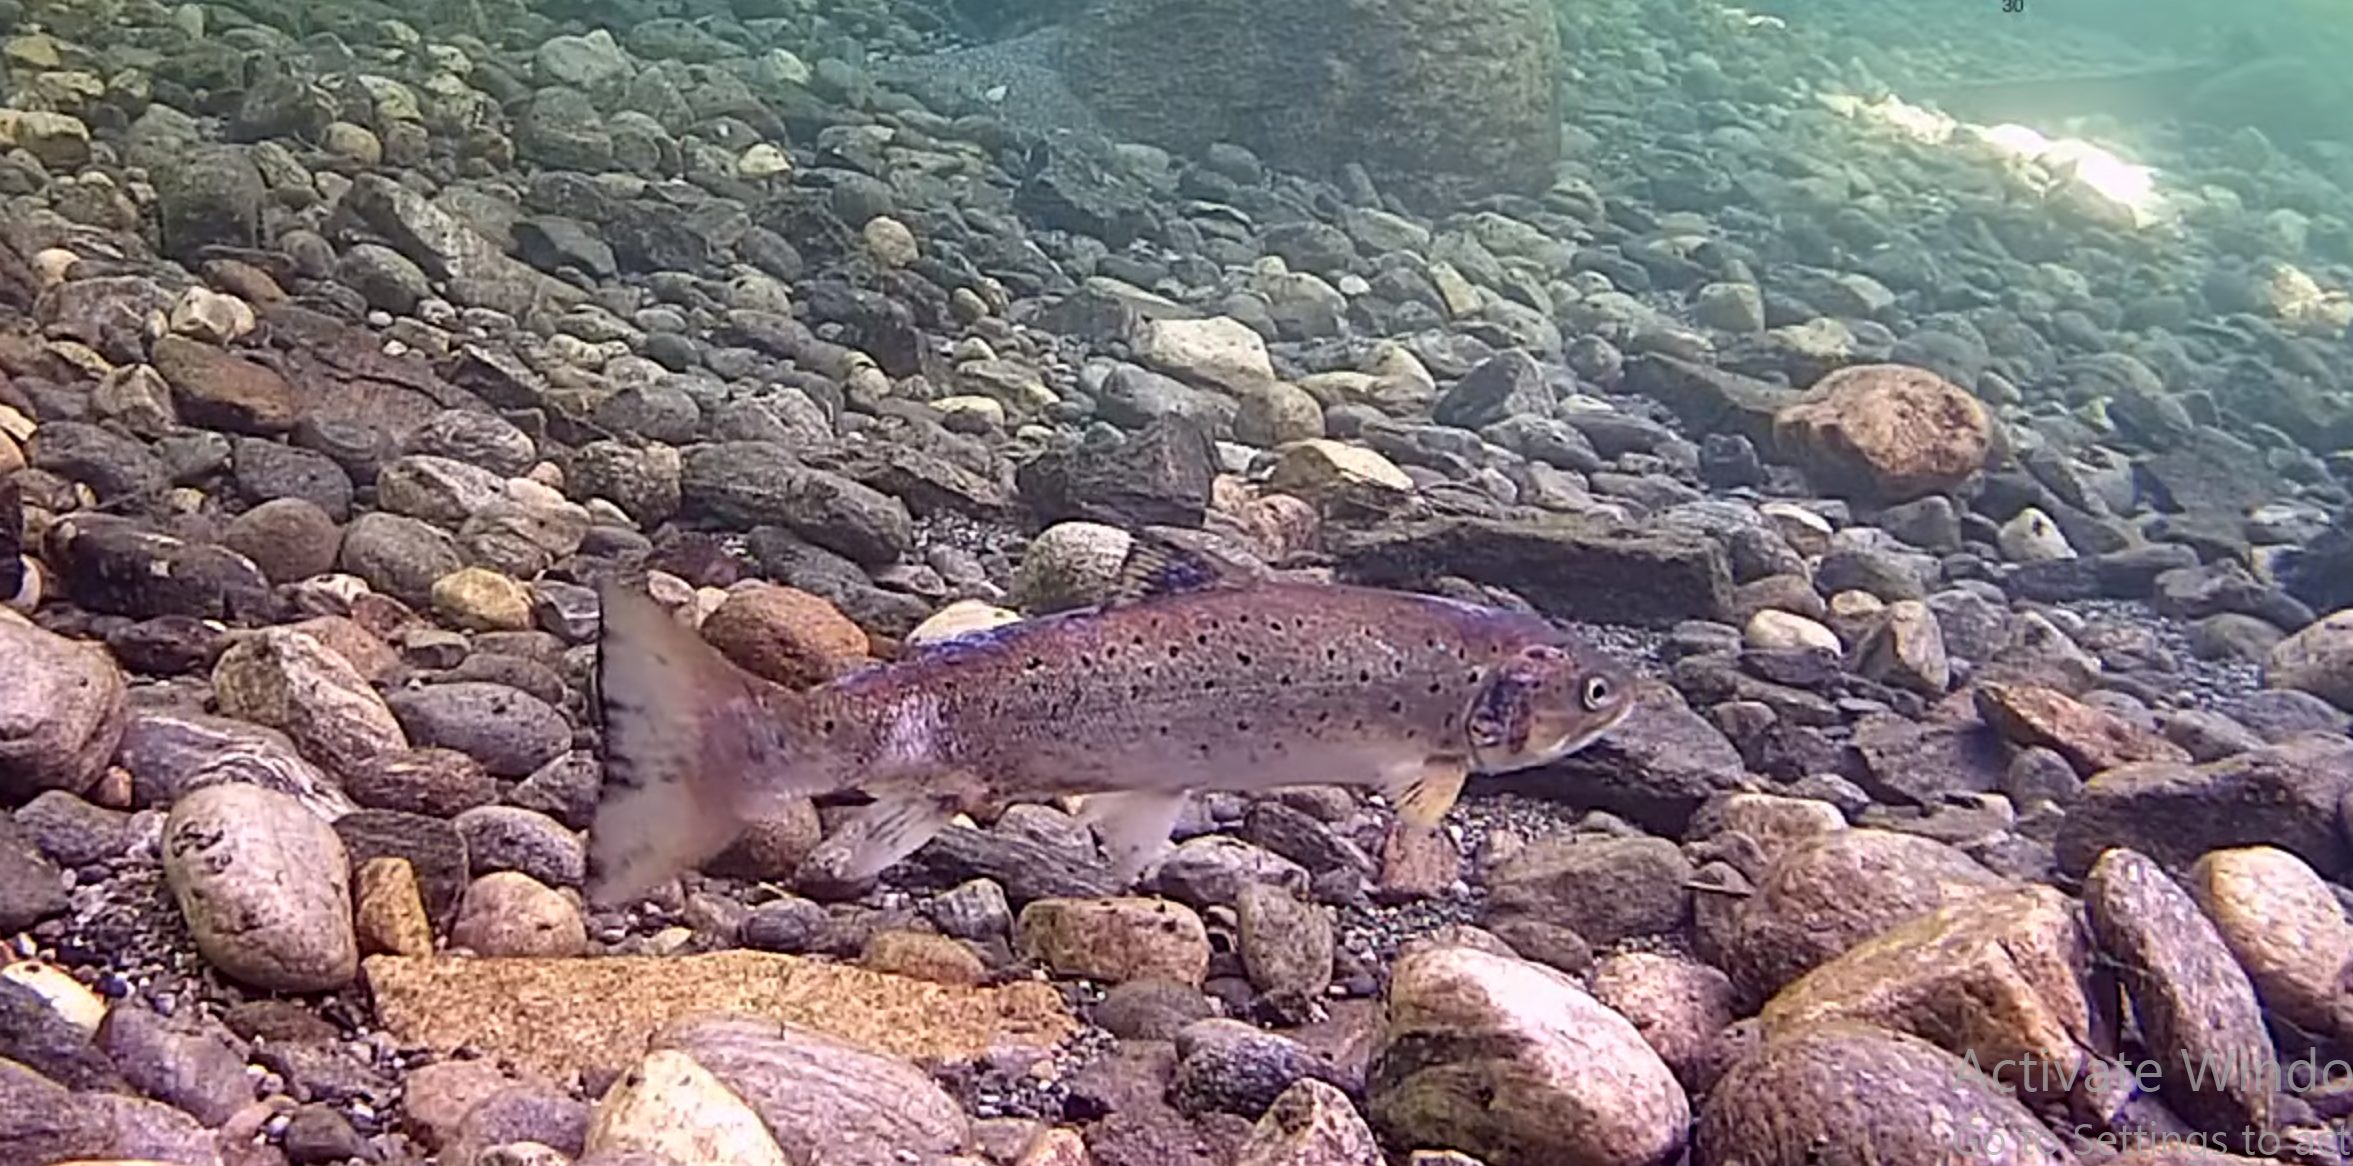salmon: (560, 519, 1651, 921)
